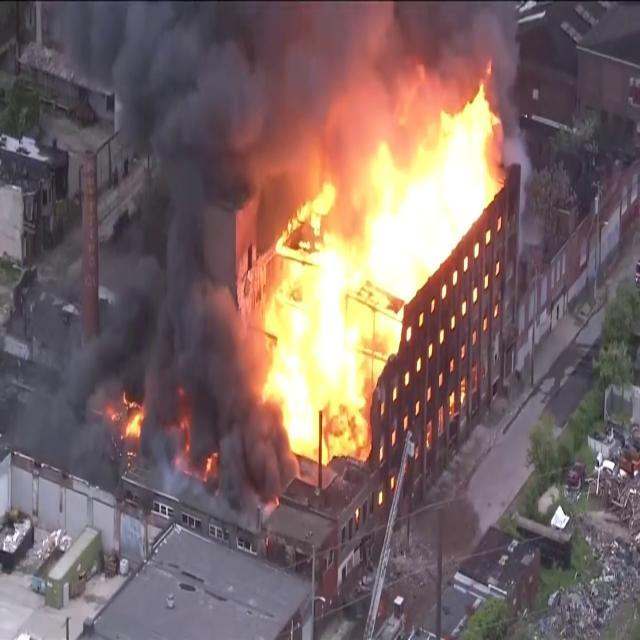Fire: (247, 76, 507, 459), (102, 387, 148, 449)
Smoke: (85, 0, 288, 486)
